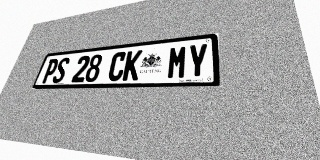2: (71, 55, 91, 82)
8: (84, 54, 104, 82)
C: (107, 51, 127, 81)
K: (122, 50, 143, 81)
M: (166, 45, 188, 79)
P: (40, 58, 60, 83)
S: (51, 57, 71, 83)
Y: (187, 43, 208, 79)
